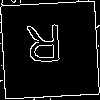R: (24, 24, 64, 72)
